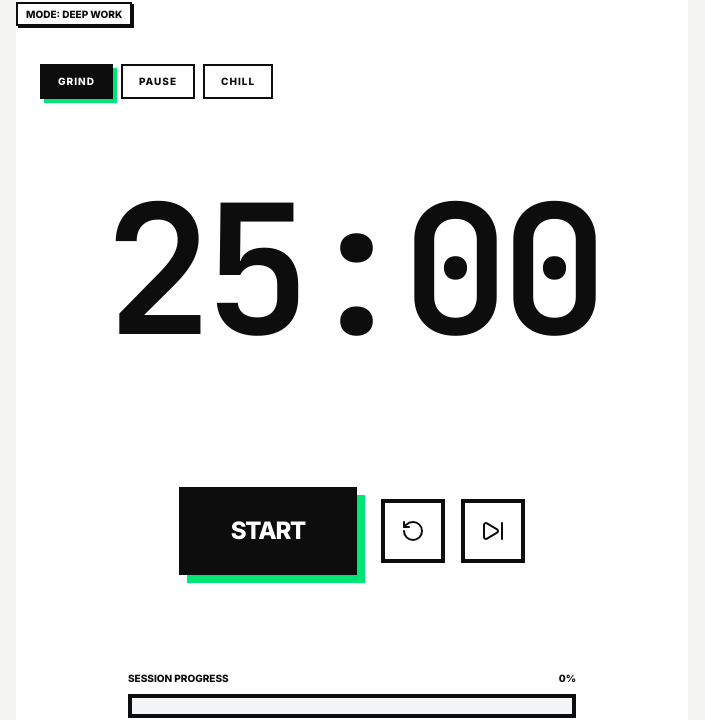
Scenario: Timer › should switch between modes
Click the button "Pause" at (158, 82), box [121,64,195,99]
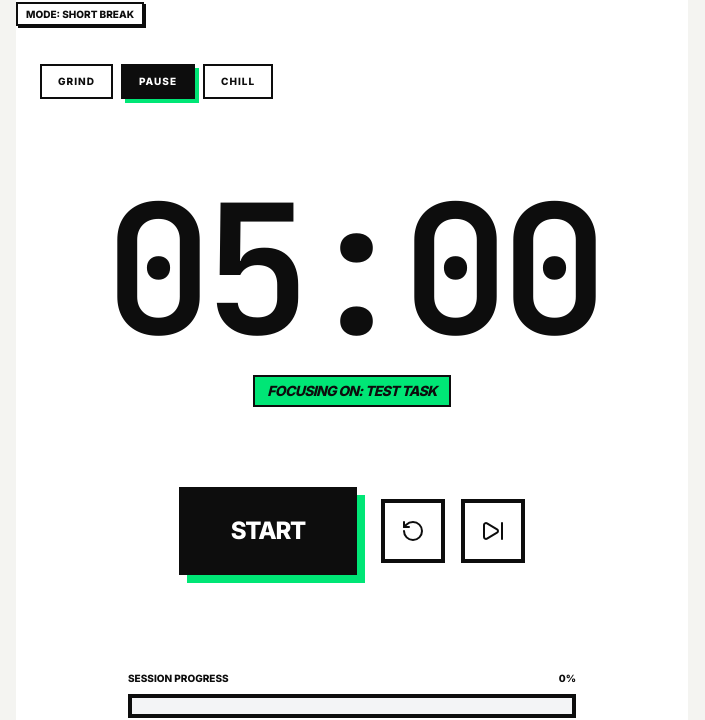
Now the text "Mode: Short Break" is shown, box [16,2,144,26]
